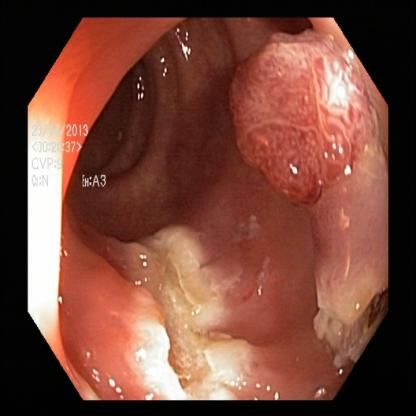Labels: (226, 38, 373, 189)
